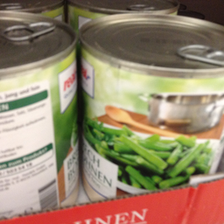beans: (81, 13, 224, 204), (1, 14, 77, 215)
